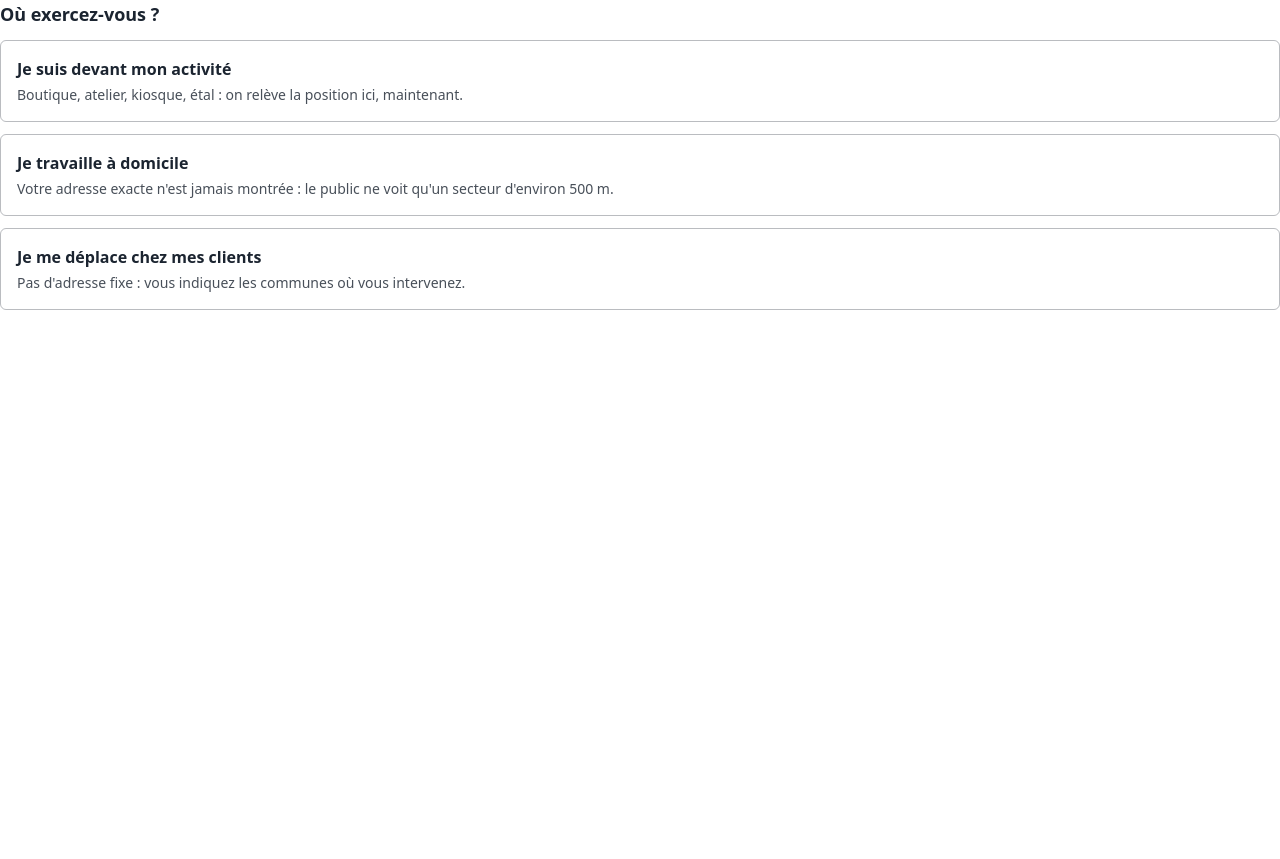
Test: ListingForm › never shows a map for a home: its area is not sent to the tile server
Click the text "Je travaille à domicile" at [103, 163], box 17,152 -> 188,174
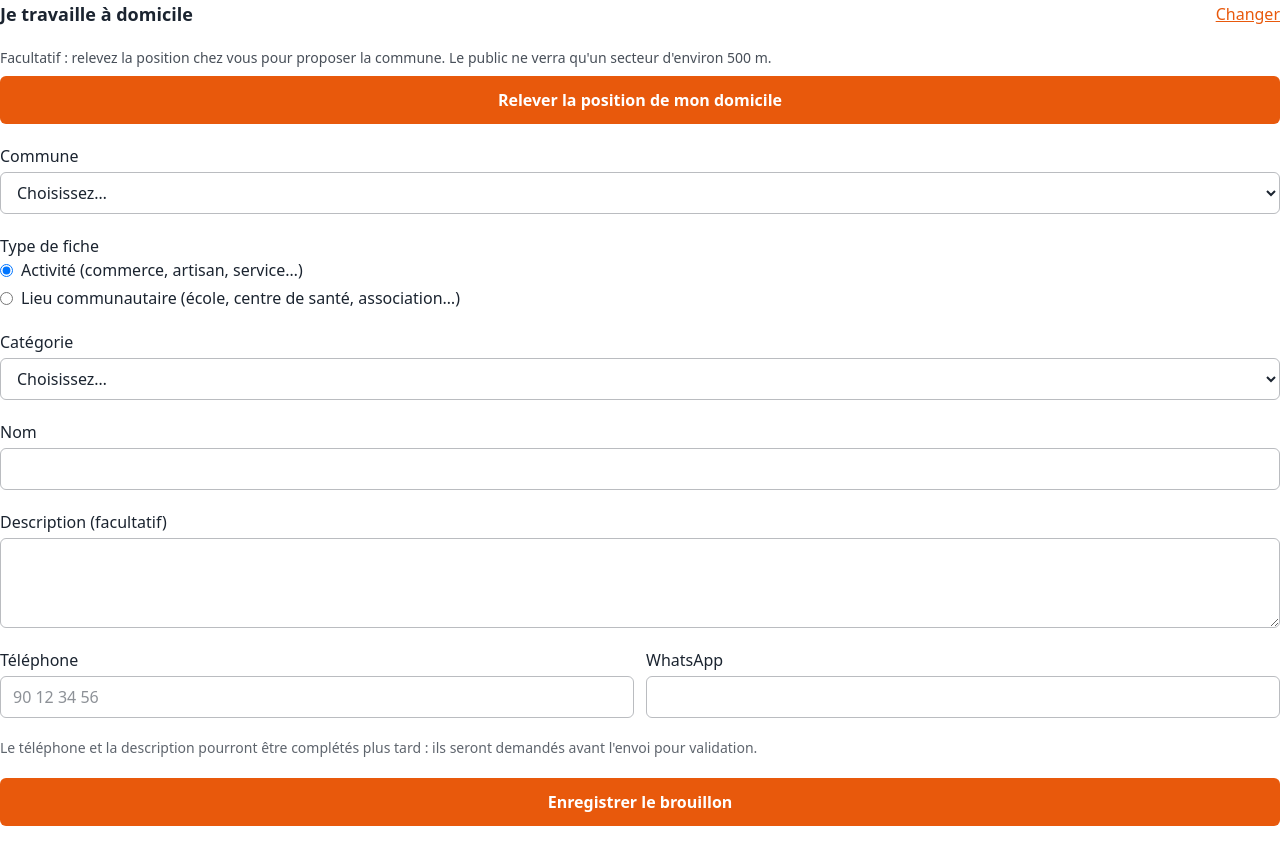
Click the button "Relever la position de mon domicile" at [640, 100], box 0,76 -> 1279,124
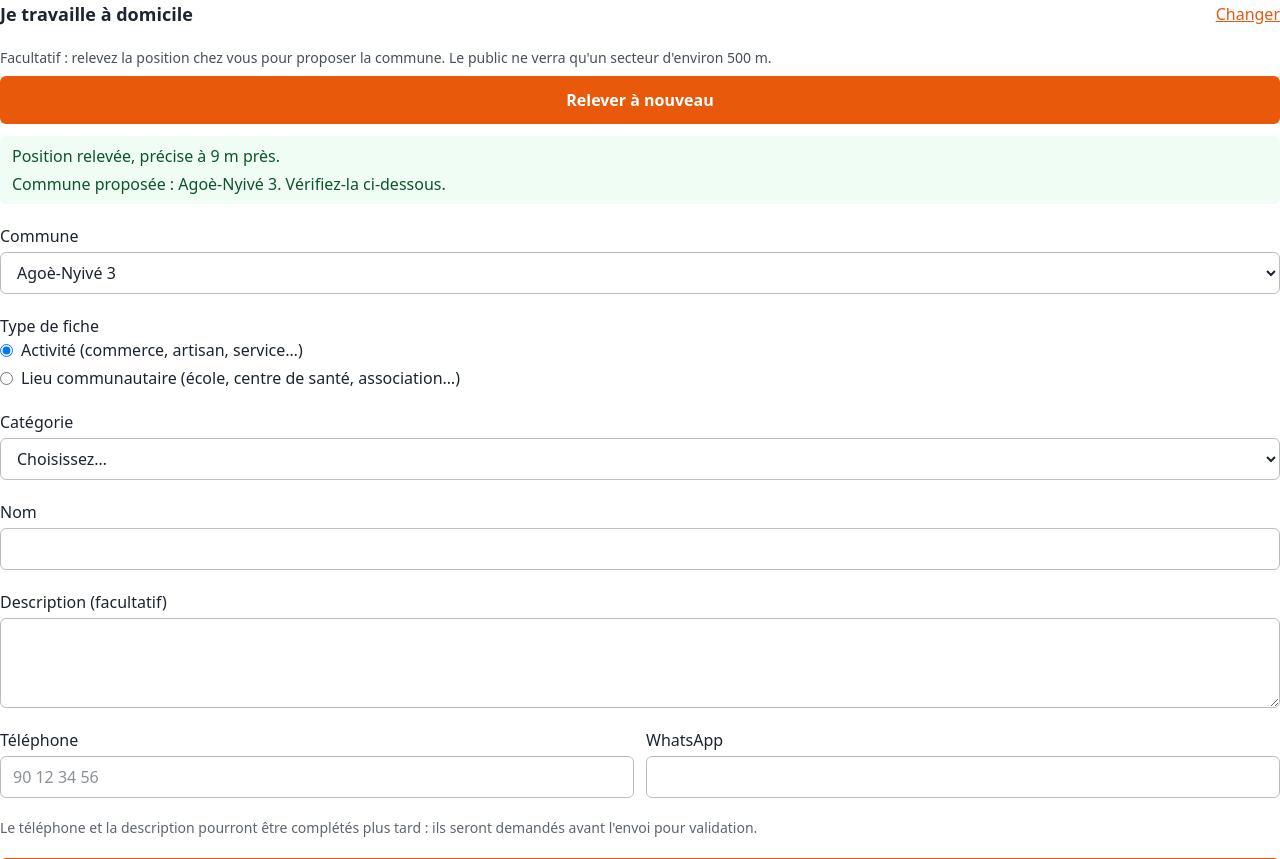
Result: the message is shown at 0,136 -> 1279,204
